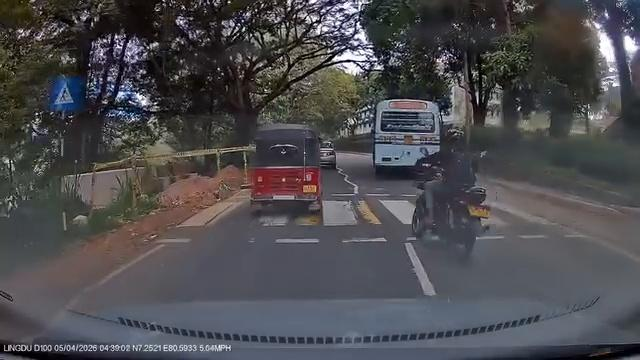illegal overtaking: (402, 124, 503, 269)
